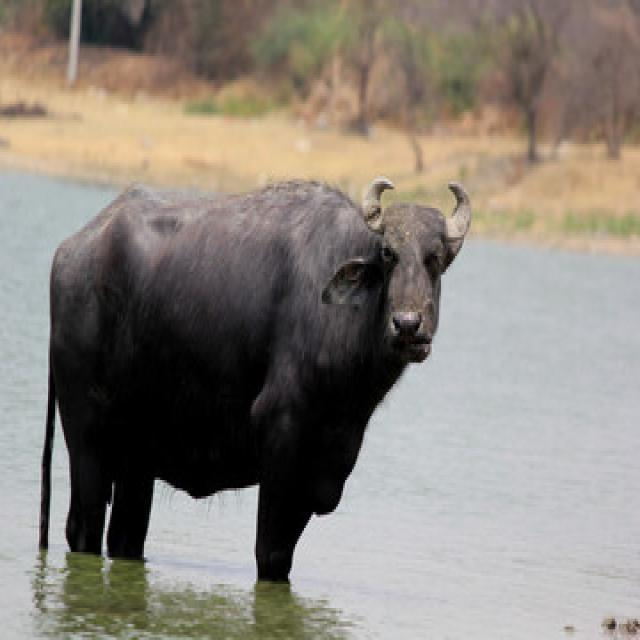Buffalo: (34, 168, 473, 587)
